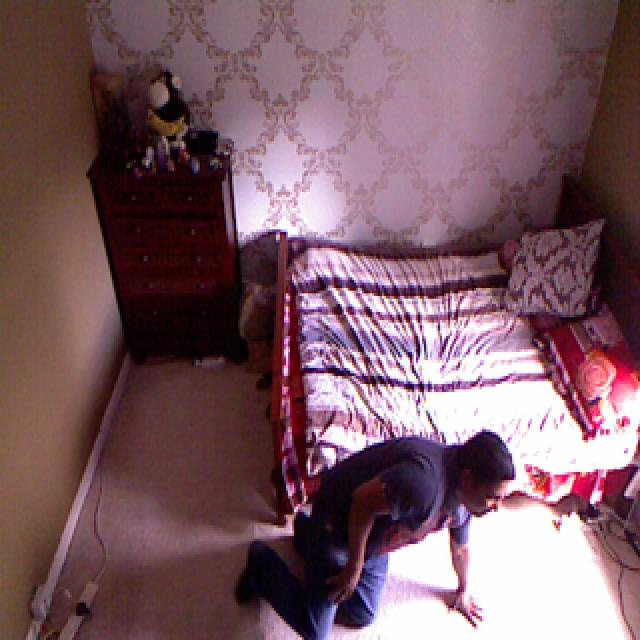crawling: (224, 428, 548, 640)
